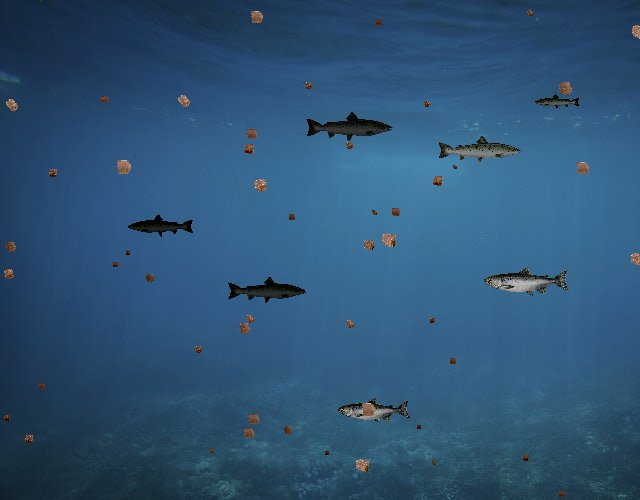Fish: (304, 110, 394, 143), (436, 134, 522, 165), (484, 266, 570, 297), (226, 276, 307, 305), (338, 397, 411, 423), (128, 213, 196, 238), (535, 94, 582, 111)
Pellet: (108, 152, 138, 182), (243, 4, 270, 31), (238, 138, 260, 160), (0, 263, 20, 285), (340, 314, 359, 333), (386, 203, 404, 221), (518, 451, 532, 465), (372, 15, 386, 29), (426, 314, 439, 327), (109, 259, 121, 271), (206, 446, 216, 456)
